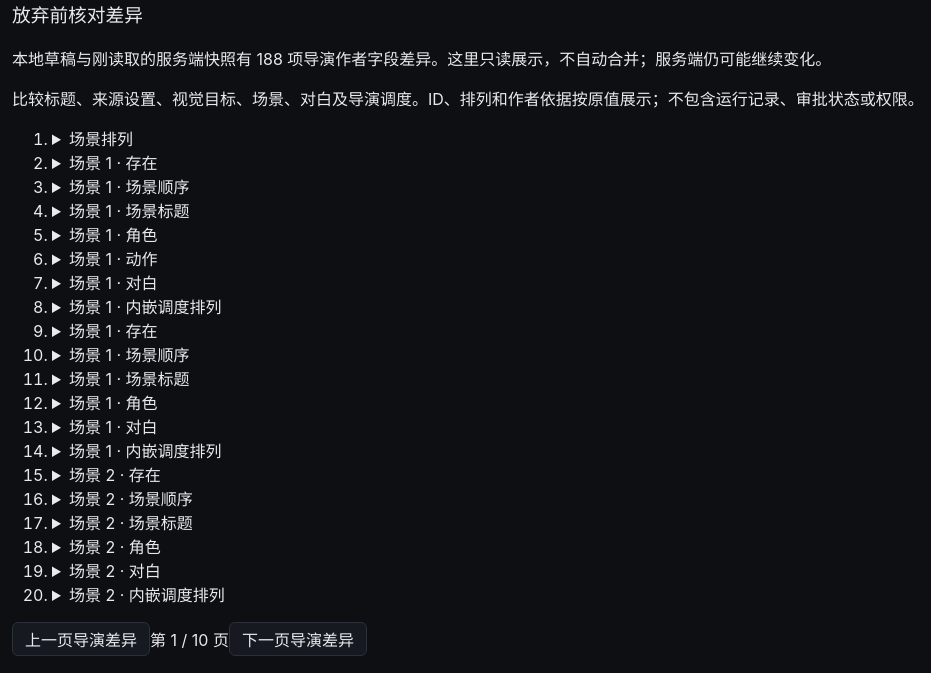
Test case: paginates larger diffs without modifying inputs
Click the button "下一页导演差异": (298, 639) [229, 622, 367, 656]
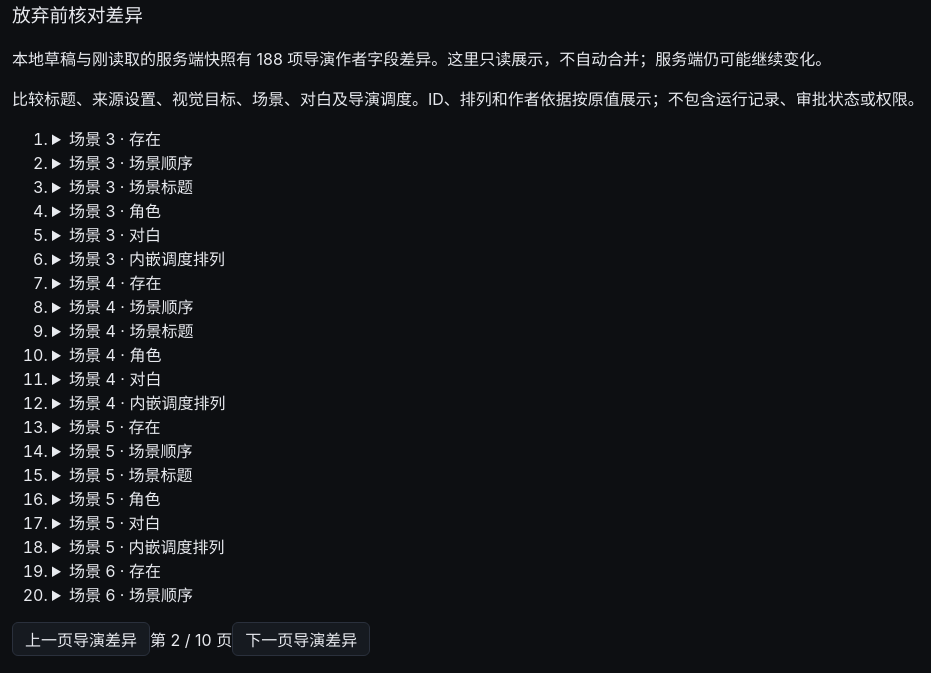
Result: the text "第 2 / 10 页" is shown at [150, 630, 232, 650]
